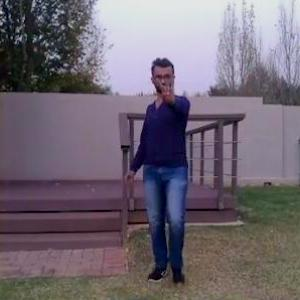takeoff-hand: (150, 72, 182, 108)
